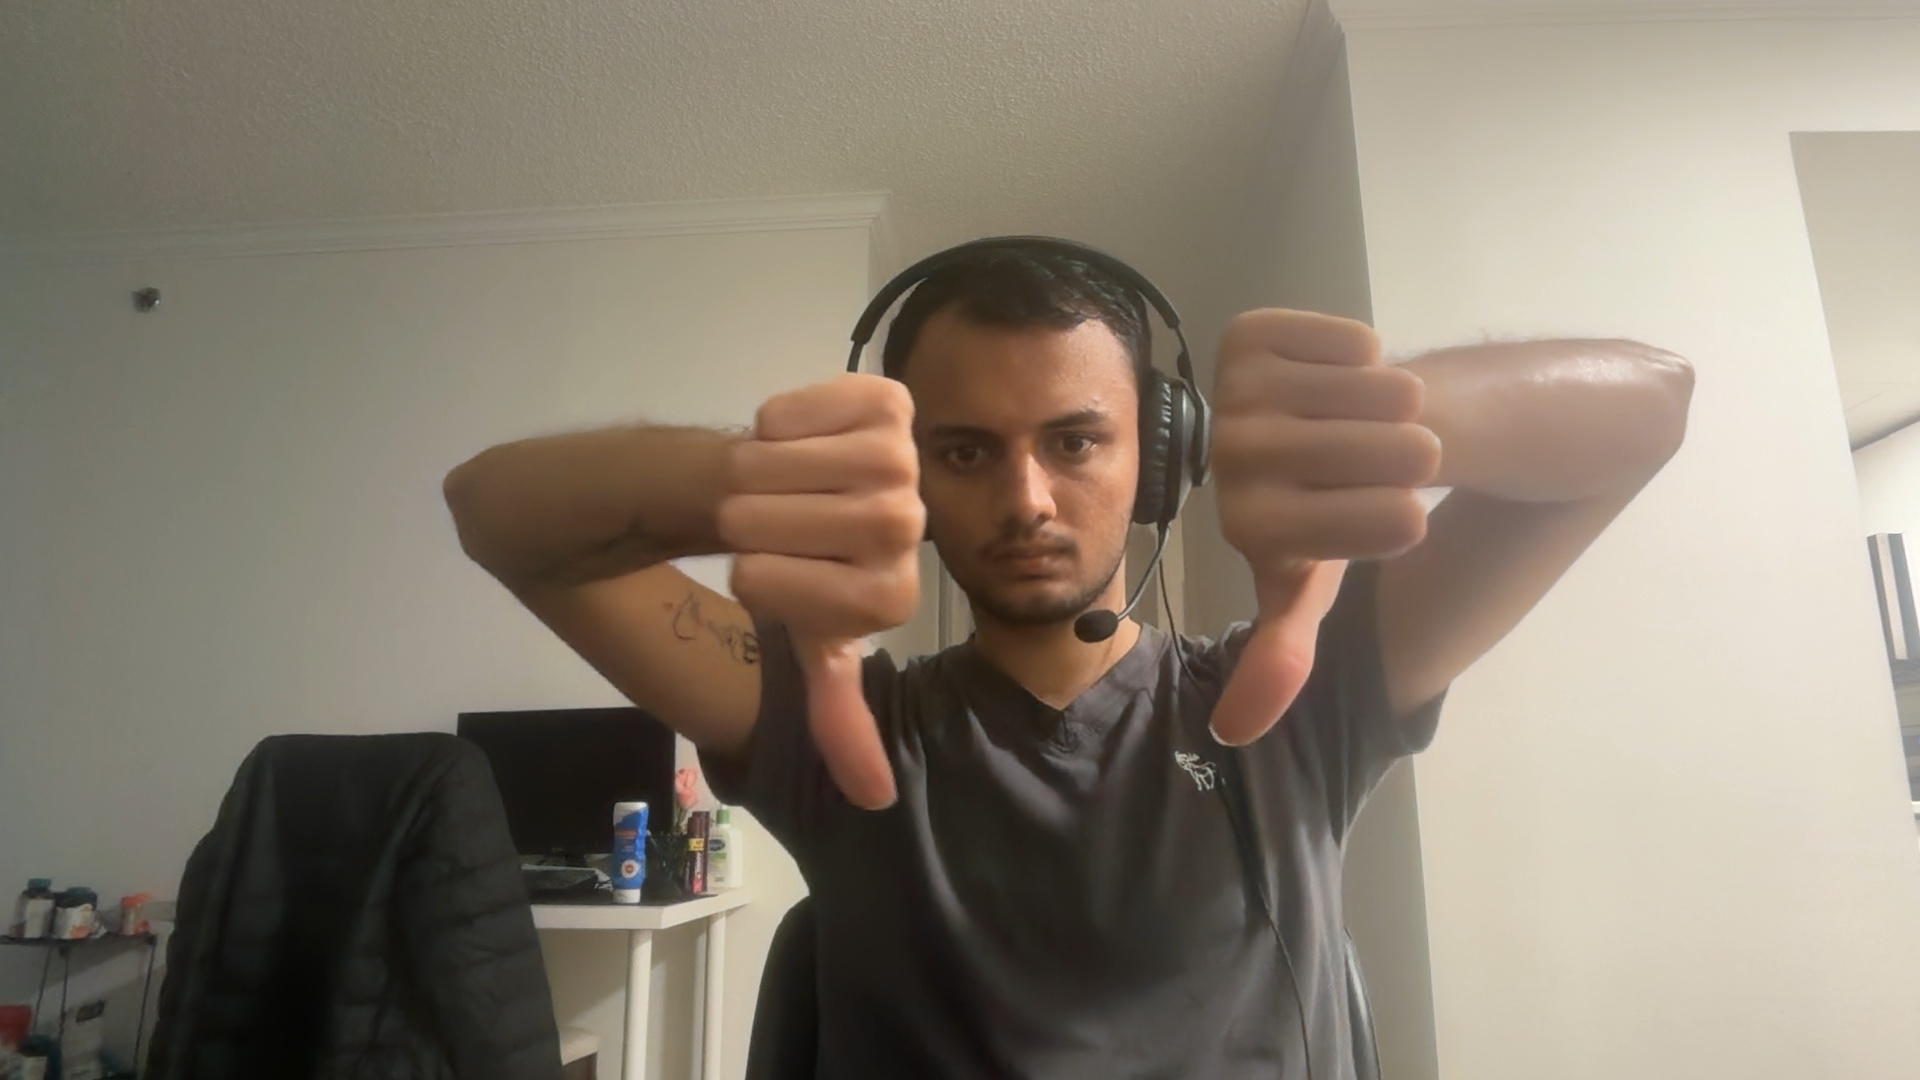thumbsdown: (1209, 306, 1443, 748)
